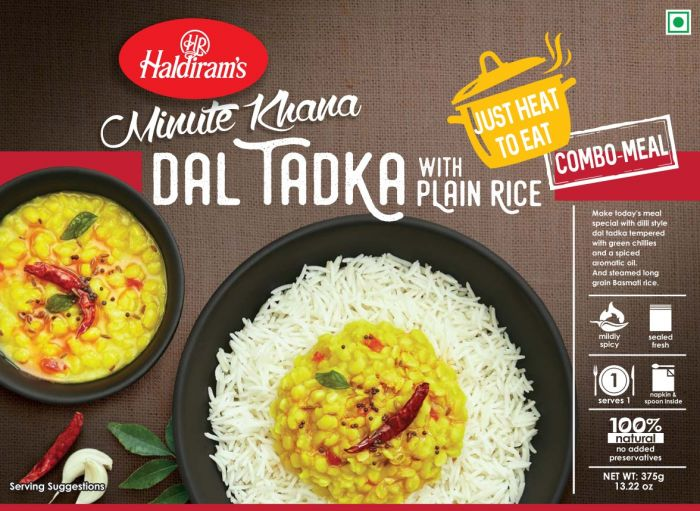plain rice: (222, 351, 281, 495), (306, 272, 460, 314), (476, 349, 513, 486)
